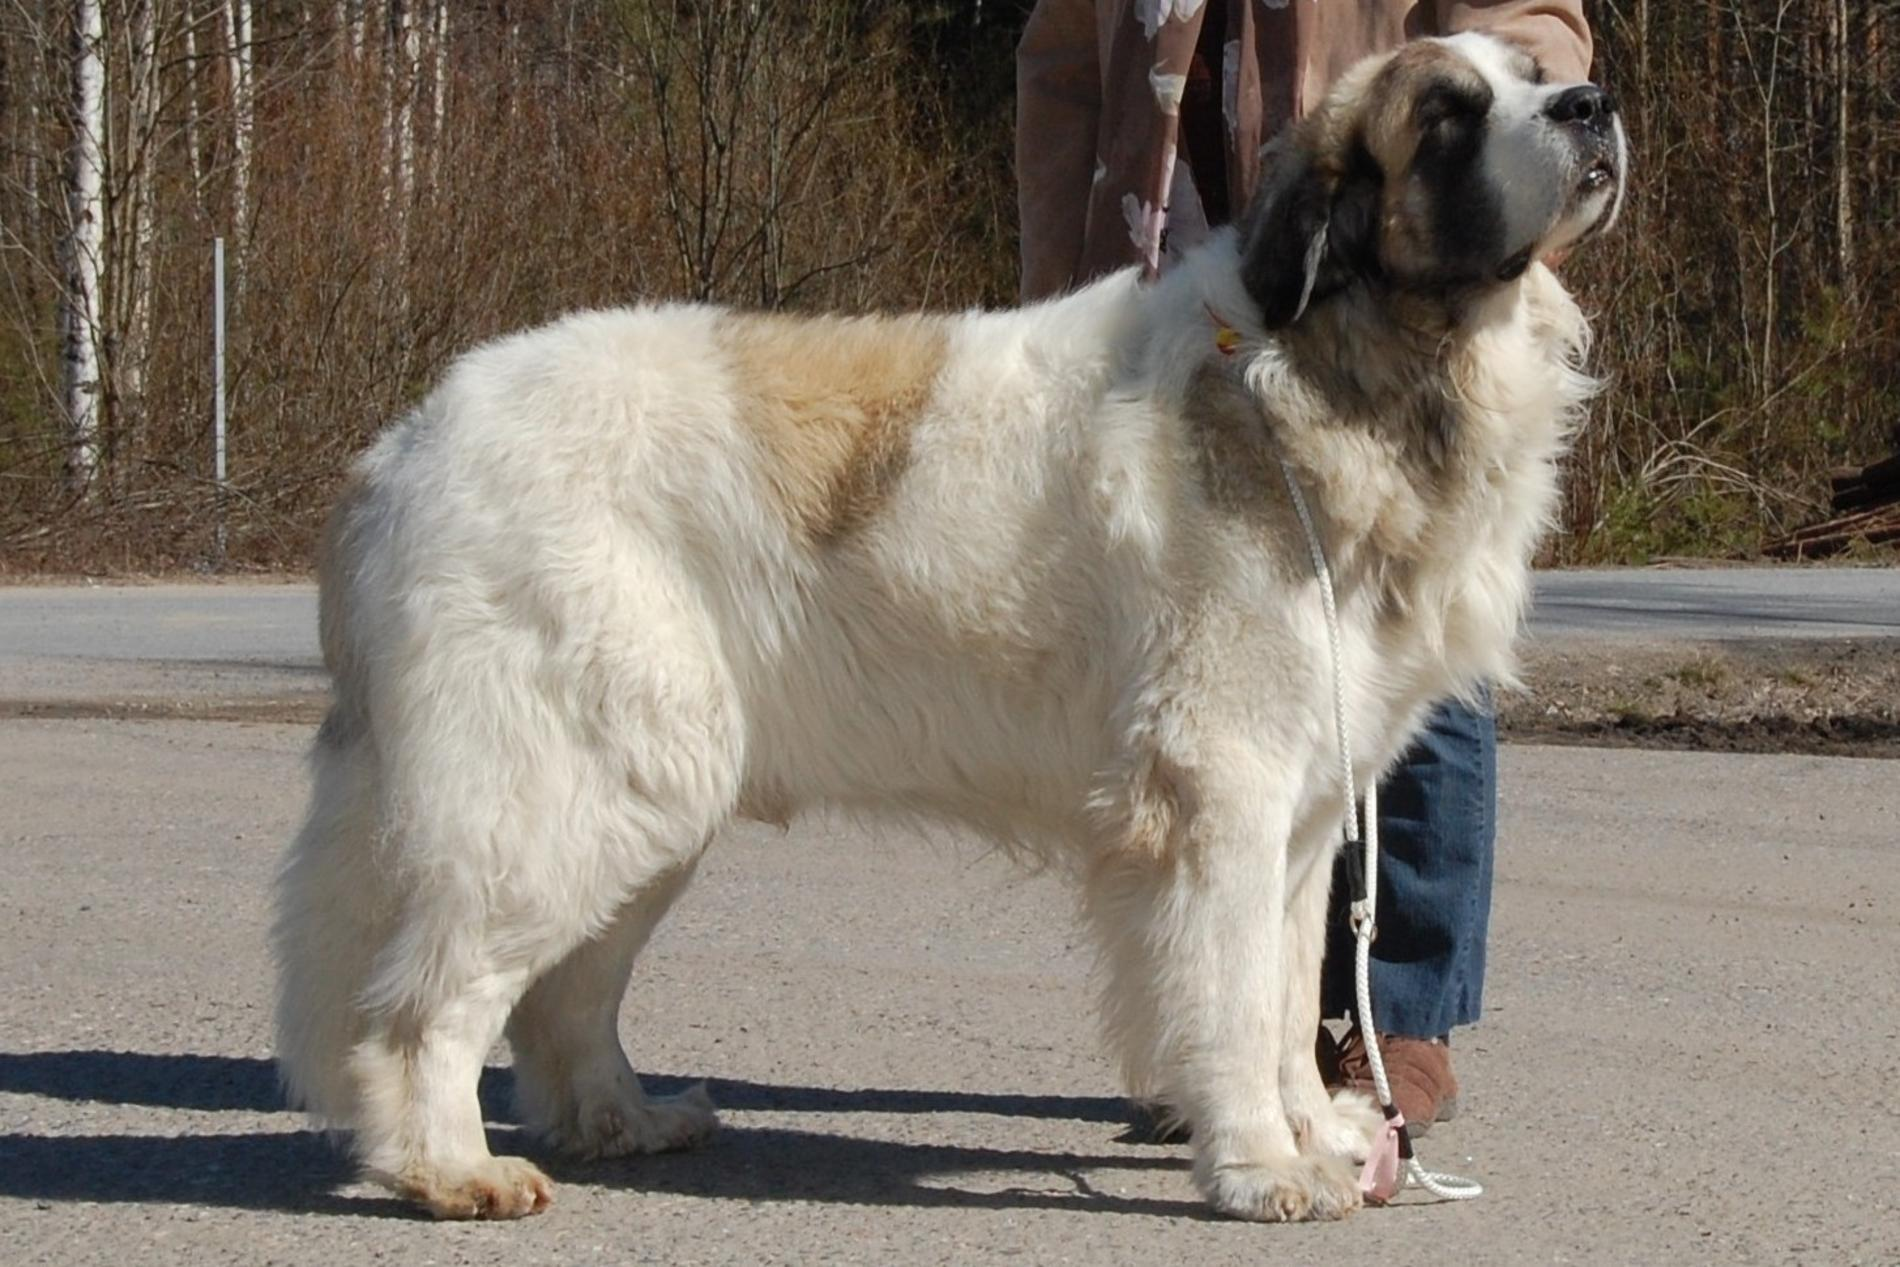other_dog_breed: (266, 25, 1636, 1230)
person: (1011, 1, 1592, 1142)
